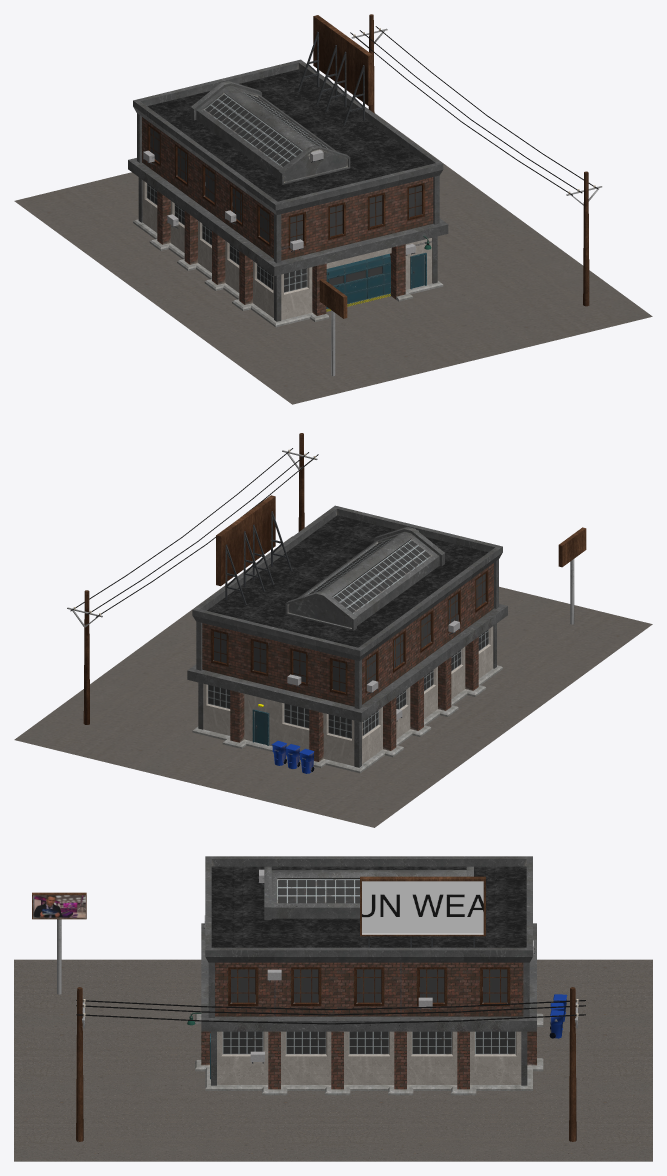
File: factory_sewing.glb
3 views of the same model, one above another, from view 1: azimuth 30°, elevation 25°; view 2: azimuth 150°, elevation 25°; view 3: azimuth 270°, elevation 25° (orthographic). The views are drawn at different scales.
Visible parts, largest first — view 1: factory_sewing; view 2: factory_sewing; view 3: factory_sewing.
Part boxes in pixels (<box>): factory_sewing: <box>14,14,652,404</box>; factory_sewing: <box>14,433,652,827</box>; factory_sewing: <box>14,856,652,1161</box>.
Bounding box in the file's own units: 20.5 × 9.96 × 27.4.
3 materials, 3 textured.
